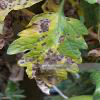Tomato Septoria leaf spot: (2, 10, 89, 93)
